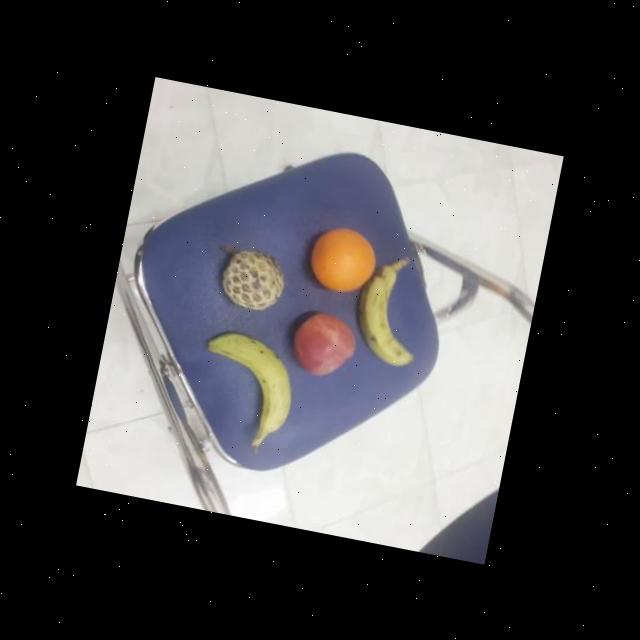Sakya fruit: (216, 242, 292, 318)
apple: (286, 302, 365, 384)
banana: (192, 327, 304, 438), (348, 260, 436, 374)
orange: (306, 220, 385, 300)
